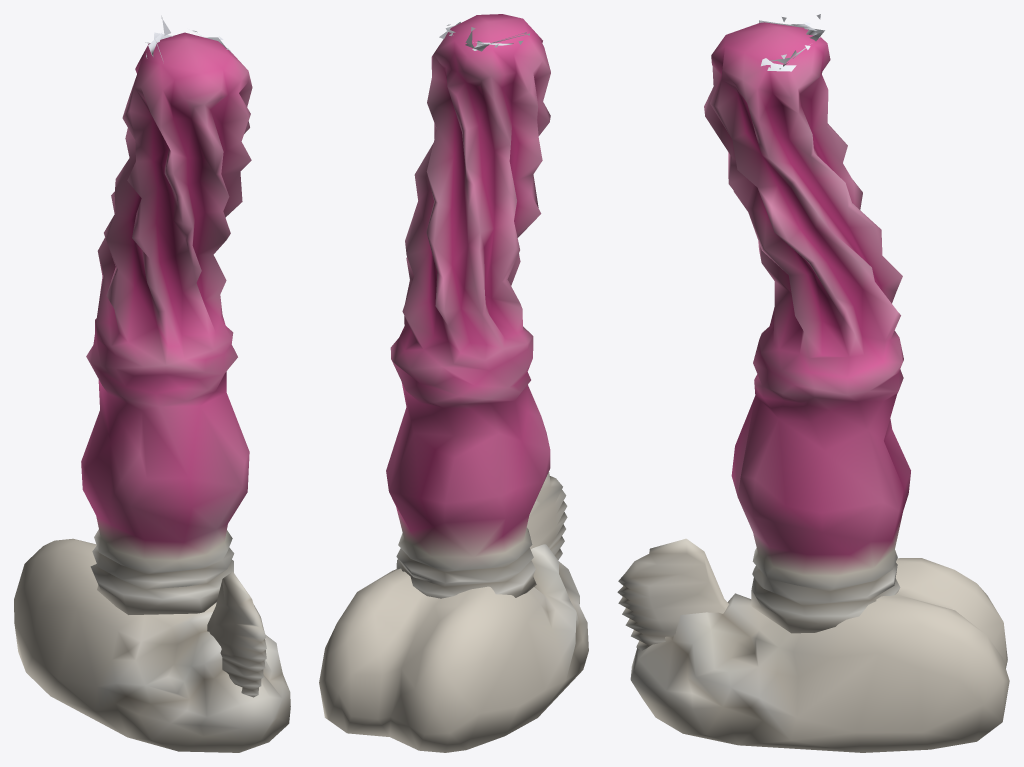
File: chess-queen-lod1.glb
The picture shows the model from 3 angles, left to right: view 1: azimuth 30°, elevation 25°; view 2: azimuth 150°, elevation 25°; view 3: azimuth 270°, elevation 25°; orthographic projection. The views are drawn at different scales.
Parts seen in each view (by area): view 1: queen; view 2: queen, tiara; view 3: queen, tiara.
Boxes of the visible parts, x1=… form: queen: x1=14, y1=32, x2=290, y2=752; queen: x1=319, y1=14, x2=588, y2=752; tiara: x1=439, y1=22, x2=529, y2=51; queen: x1=617, y1=22, x2=1009, y2=752; tiara: x1=759, y1=14, x2=824, y2=71.
Size of the model in its own units: 0.3414 by 1.17 by 0.6021.
